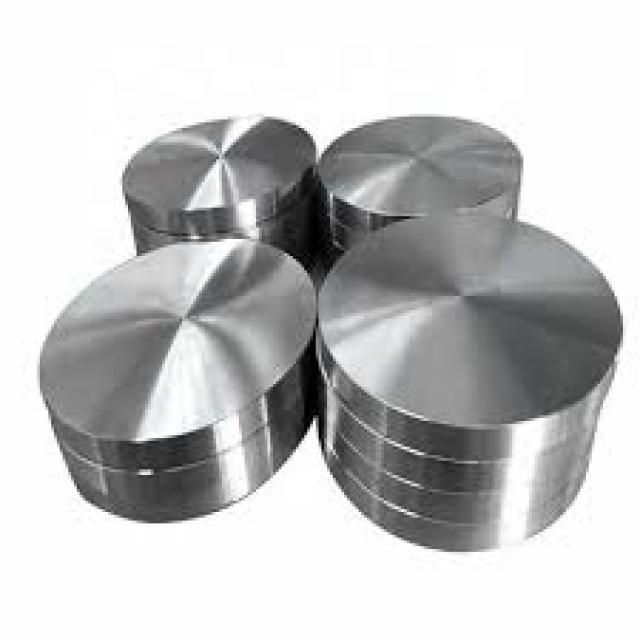Dry: (28, 95, 630, 561)
